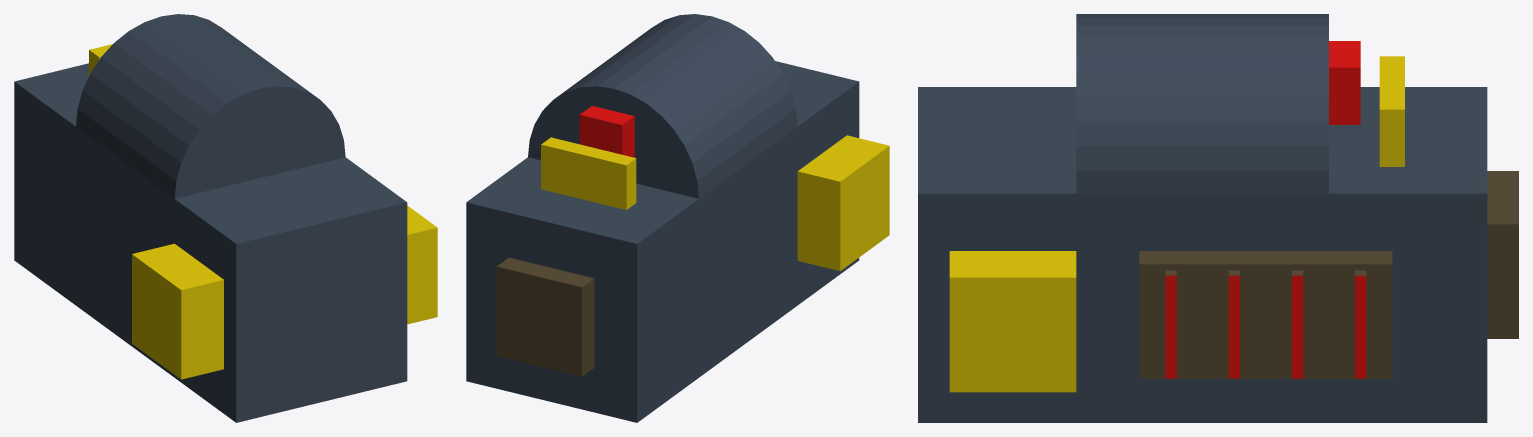
File: engine.fbx
3 renders of one model, left to right at view 1: azimuth 30°, elevation 25°; view 2: azimuth 150°, elevation 25°; view 3: azimuth 270°, elevation 25°, orthographic. The views are drawn at different scales.
Parts seen in each view (by area): view 1: Cube; view 2: Cube; view 3: Cube.
Boxes of the visible parts, x1=… form: Cube: x1=14, y1=14, x2=437, y2=422; Cube: x1=466, y1=14, x2=889, y2=422; Cube: x1=918, y1=14, x2=1518, y2=422.
Bounding box in the file's own units: 600 × 600 × 950.
